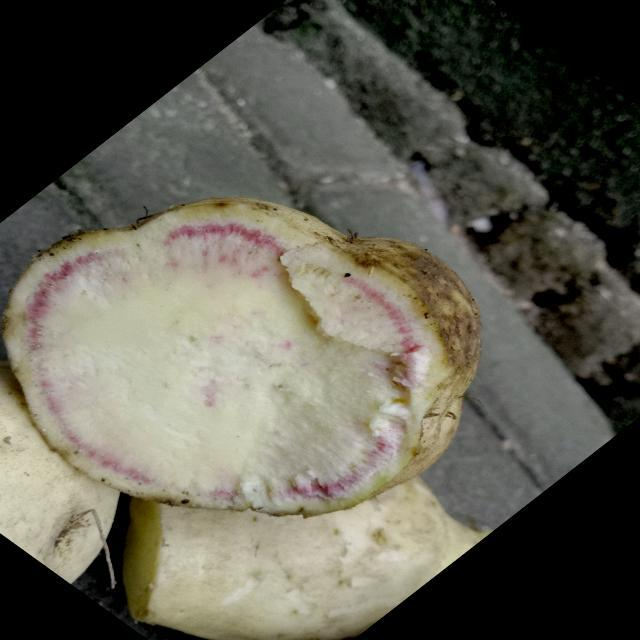Healthy Sweet Potato: (3, 199, 480, 516)
